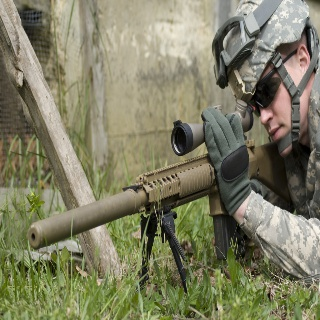rifle: (24, 100, 294, 297)
